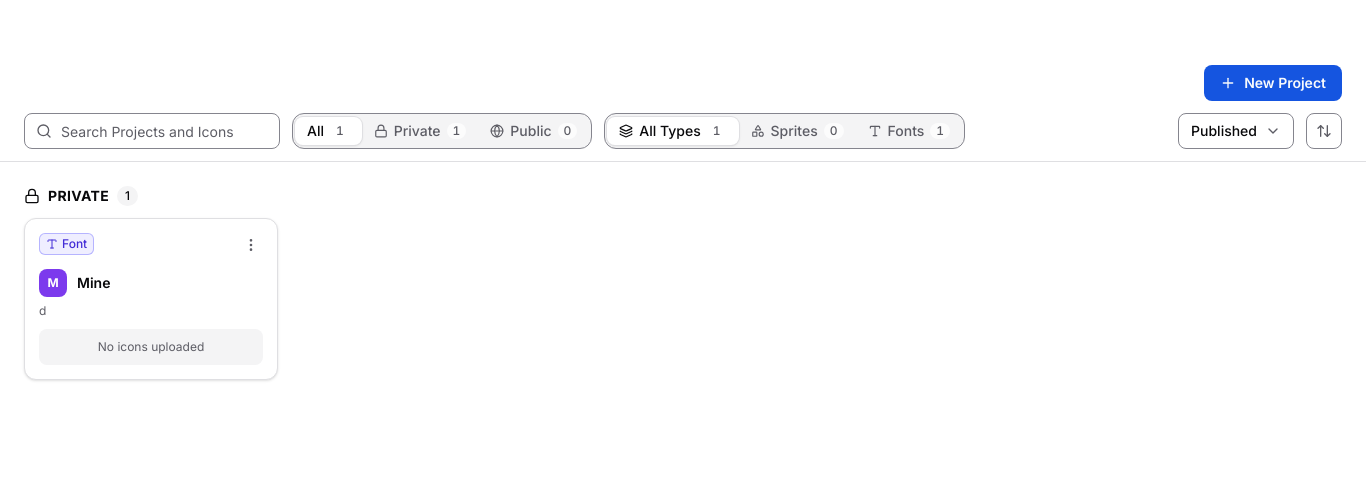
Test: project actions › reports a failed action with a message
Click the button named "Actions for Mine": {"x": 251, "y": 245} [239, 233, 263, 257]
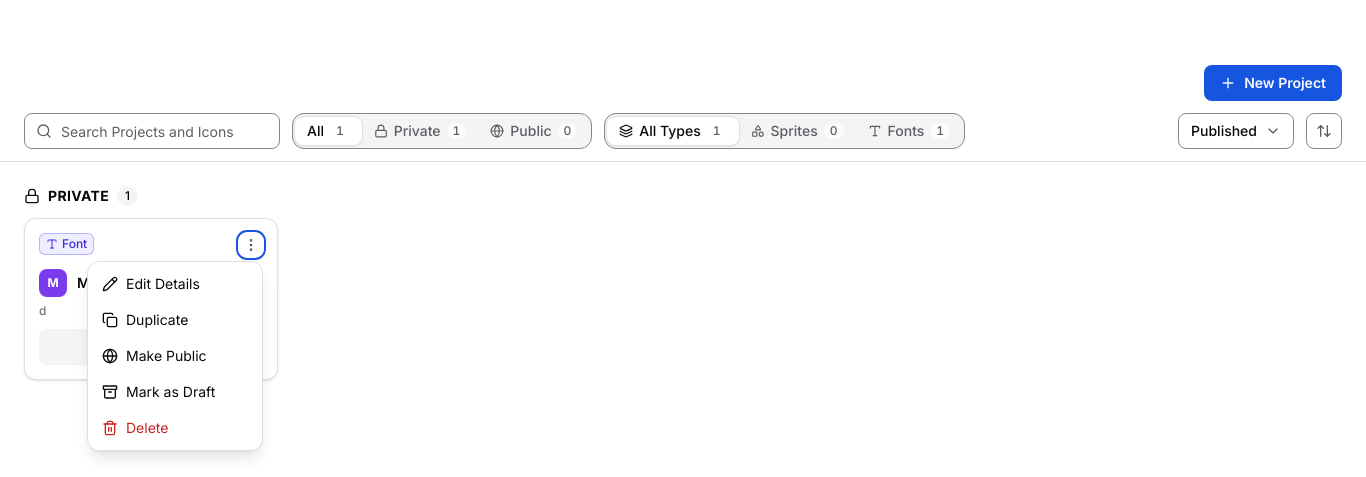
Click the menu item "Duplicate": {"x": 175, "y": 320} [92, 302, 258, 338]
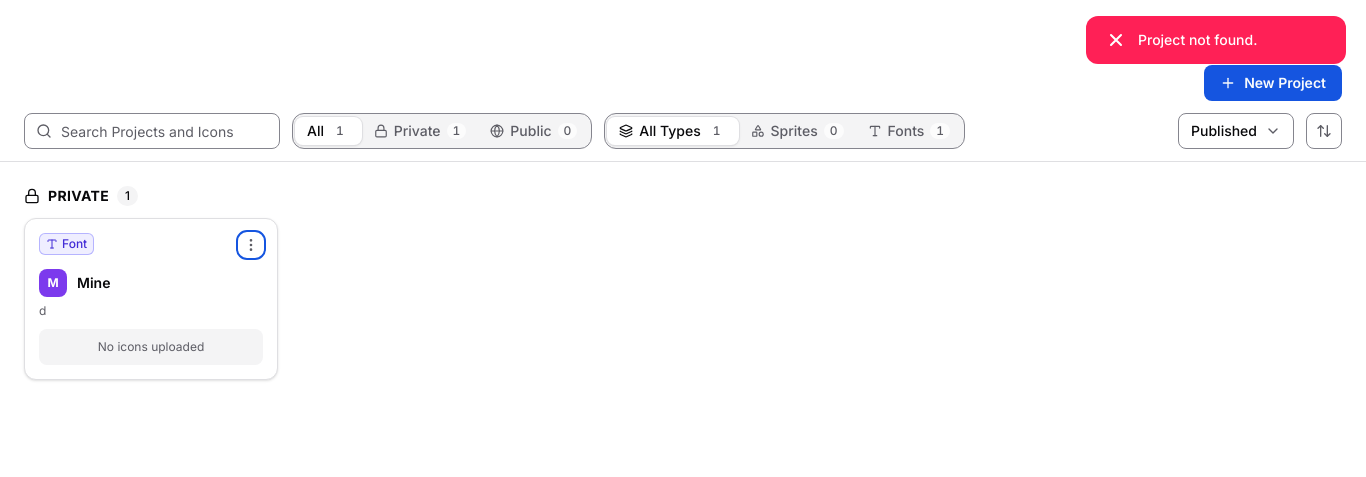
Check: the text "Project not found." is shown, box [1138, 31, 1257, 48]
